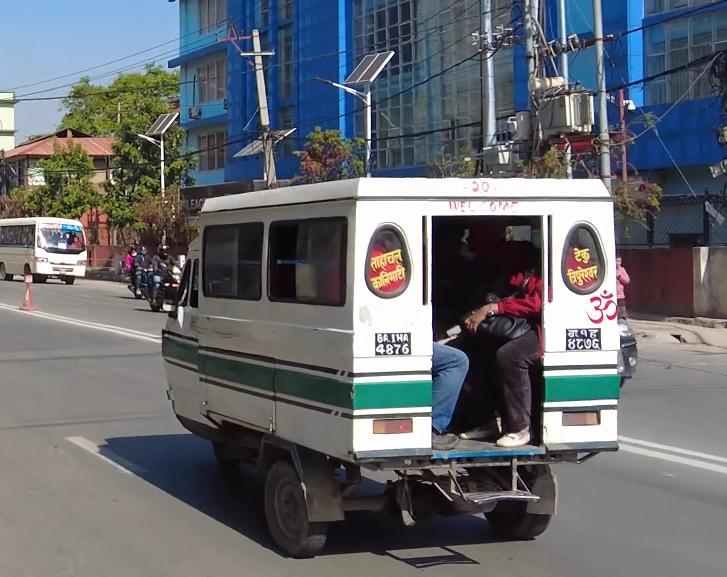bus: (0, 212, 92, 292)
tempo: (149, 163, 621, 562)
